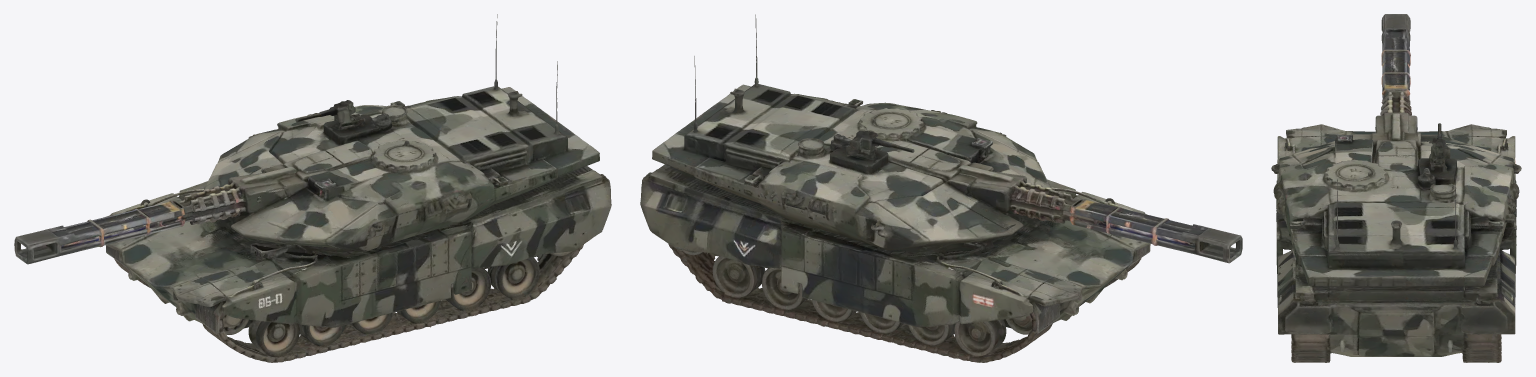
Rendered from desert-armor.glb.
3 renders of one model, left to right at view 1: azimuth 30°, elevation 25°; view 2: azimuth 150°, elevation 25°; view 3: azimuth 270°, elevation 25°, orthographic. The views are drawn at different scales.
Size of the model in its own units: 1.9 by 0.7268 by 0.7814.
Materials: 1 (1 with a texture image).
